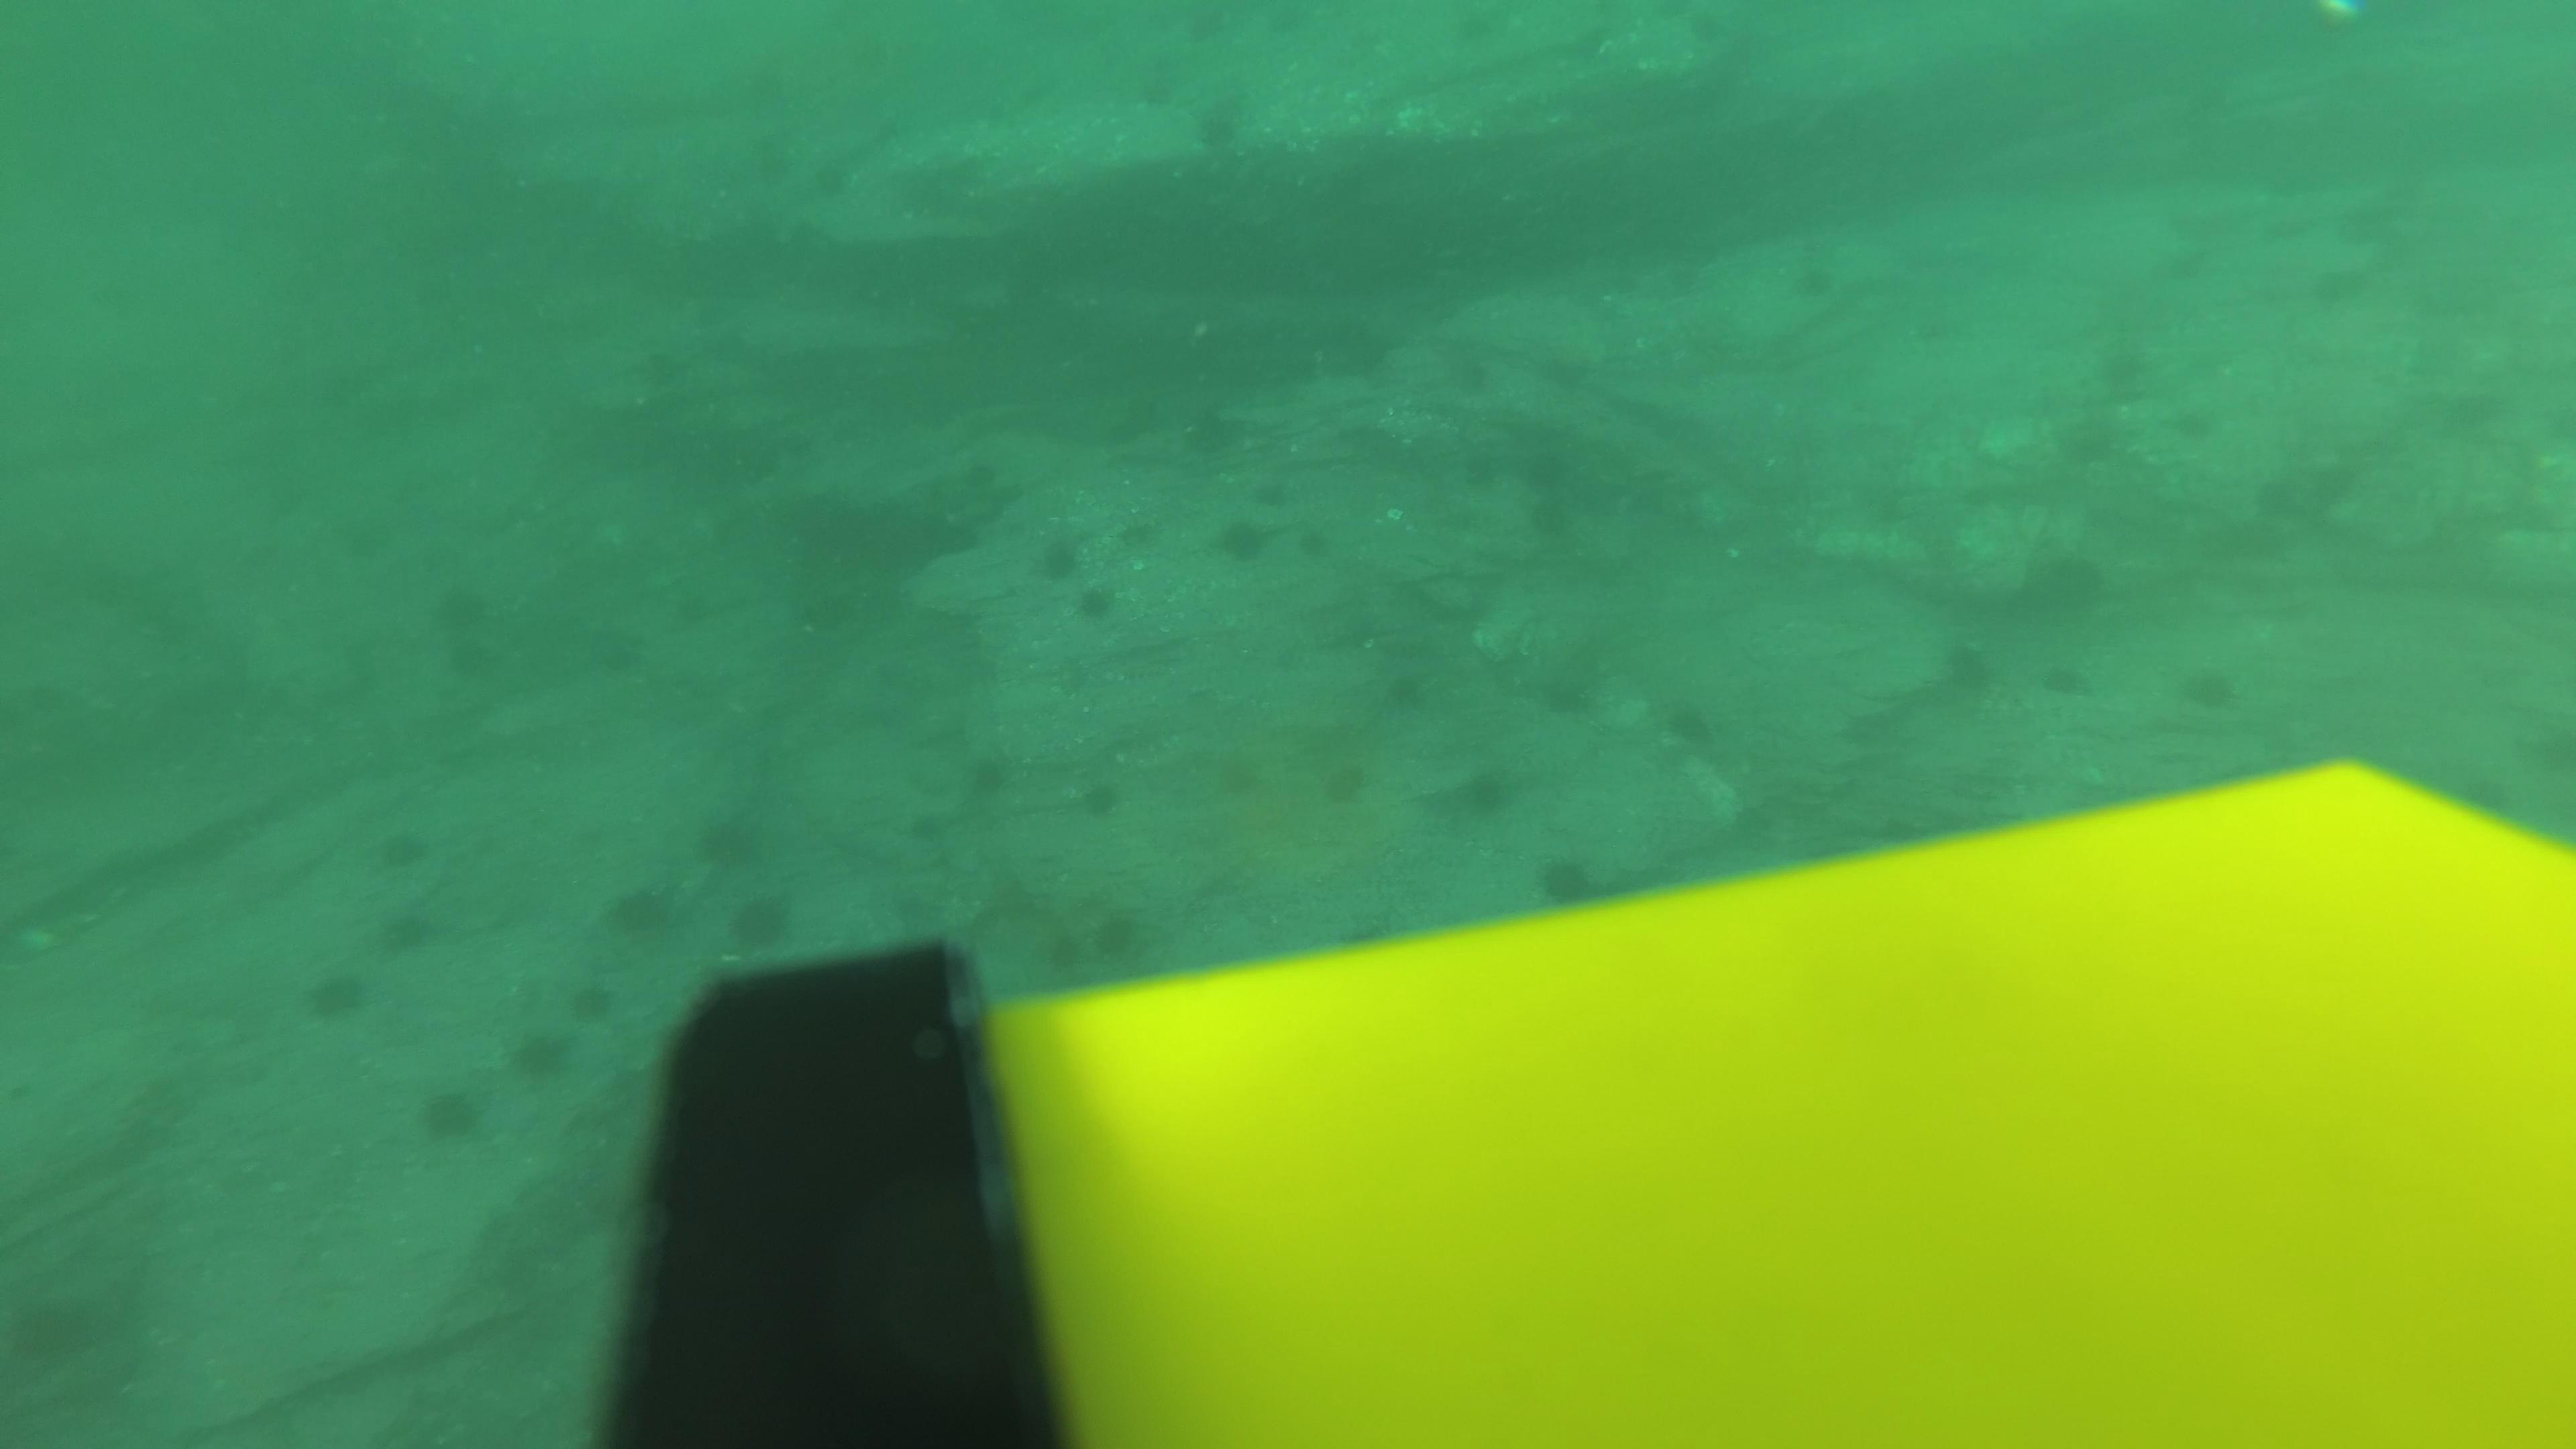echinus: (2013, 543, 2112, 628), (688, 801, 773, 876), (600, 876, 683, 945), (1532, 651, 1610, 722), (1932, 633, 2005, 706), (722, 888, 798, 957), (1175, 398, 1251, 465), (1529, 847, 1606, 913), (414, 1081, 488, 1148), (1085, 901, 1154, 968), (301, 962, 373, 1026), (506, 1024, 577, 1086), (1208, 508, 1277, 570), (2174, 658, 2243, 718), (1658, 694, 1721, 755), (1187, 94, 1251, 156), (1033, 527, 1093, 593), (370, 819, 435, 876), (377, 902, 439, 959), (1072, 770, 1129, 826), (1070, 577, 1123, 630), (566, 975, 619, 1028), (2059, 423, 2118, 464), (441, 594, 494, 637), (2109, 363, 2155, 405), (442, 644, 497, 679), (1185, 4, 1228, 46), (2173, 410, 2220, 448), (1329, 763, 1369, 805), (2314, 267, 2365, 297), (1465, 771, 1504, 809), (1529, 499, 1569, 534), (1217, 761, 1258, 796), (1468, 453, 1502, 495), (1046, 938, 1090, 970), (1796, 264, 1836, 297), (1385, 671, 1430, 701), (2051, 667, 2089, 701), (1530, 453, 1566, 487), (817, 161, 853, 195), (957, 460, 996, 488), (973, 766, 1003, 796), (993, 483, 1024, 506), (1297, 525, 1325, 550), (913, 816, 943, 839)
